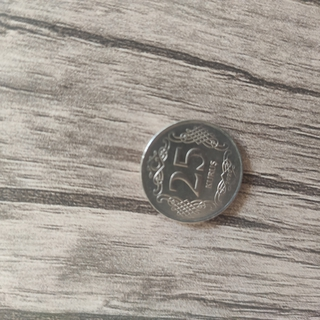25KURUS: (137, 118, 244, 225)
